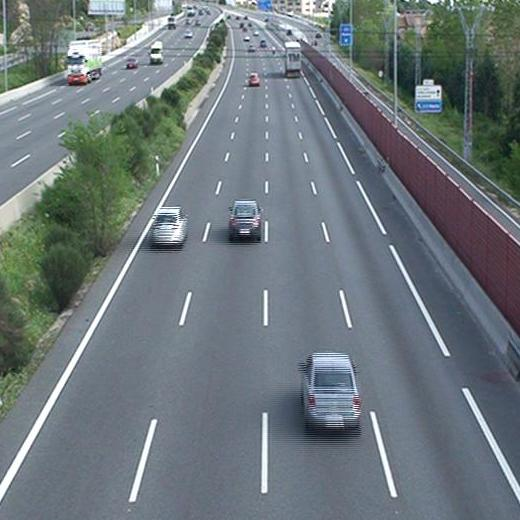car: (298, 353, 361, 430), (148, 208, 187, 246), (227, 201, 263, 241), (248, 72, 260, 88), (245, 42, 255, 51)
motorcycle: (269, 45, 278, 56)
truck: (282, 40, 302, 77)
